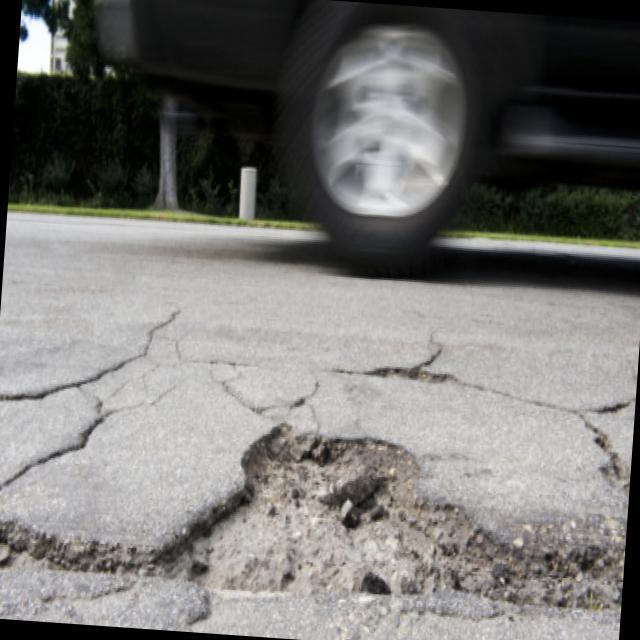Pothole: (148, 408, 632, 624)
